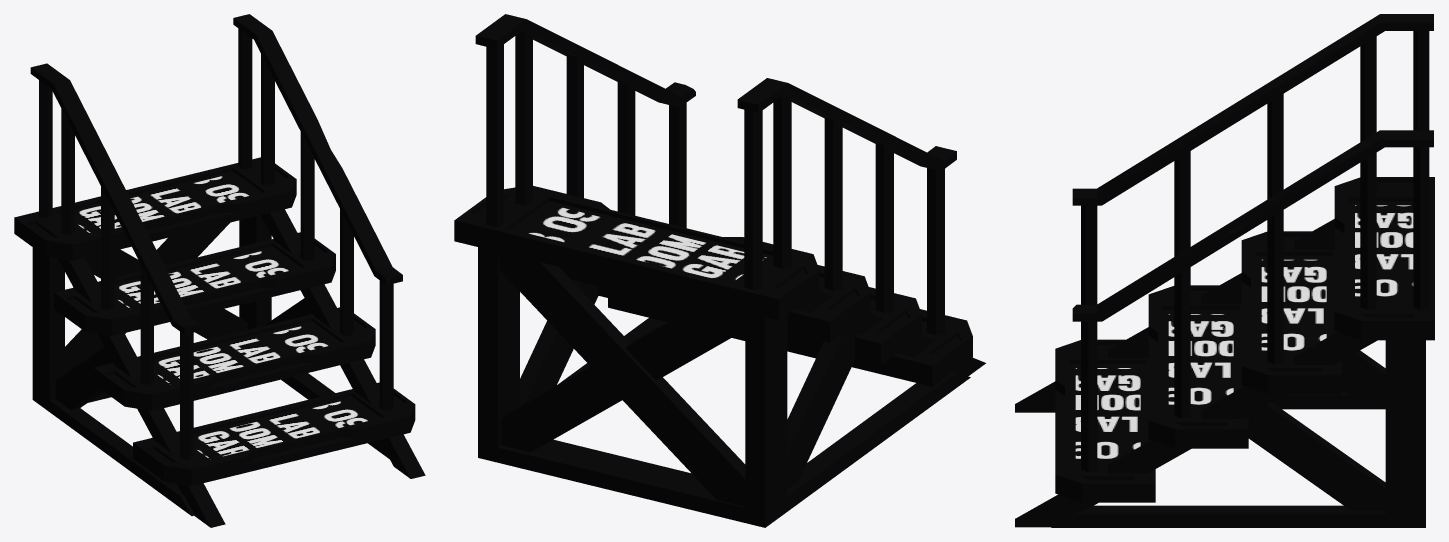
Rendered from space_SM_Prop_Stairs_03.gltf.
3 views of the same model, side by side, from view 1: azimuth 30°, elevation 25°; view 2: azimuth 150°, elevation 25°; view 3: azimuth 270°, elevation 25° (orthographic). The views are drawn at different scales.
Visible parts, largest first — view 1: SM_Prop_Stairs_03; view 2: SM_Prop_Stairs_03; view 3: SM_Prop_Stairs_03.
Part boxes in pixels (<box>): SM_Prop_Stairs_03: <box>14,14,425,527</box>; SM_Prop_Stairs_03: <box>454,14,985,527</box>; SM_Prop_Stairs_03: <box>1015,14,1434,527</box>.
Size of the model in its own units: 1.61 by 2.03 by 1.99.
Materials: 1 (1 with a texture image).
